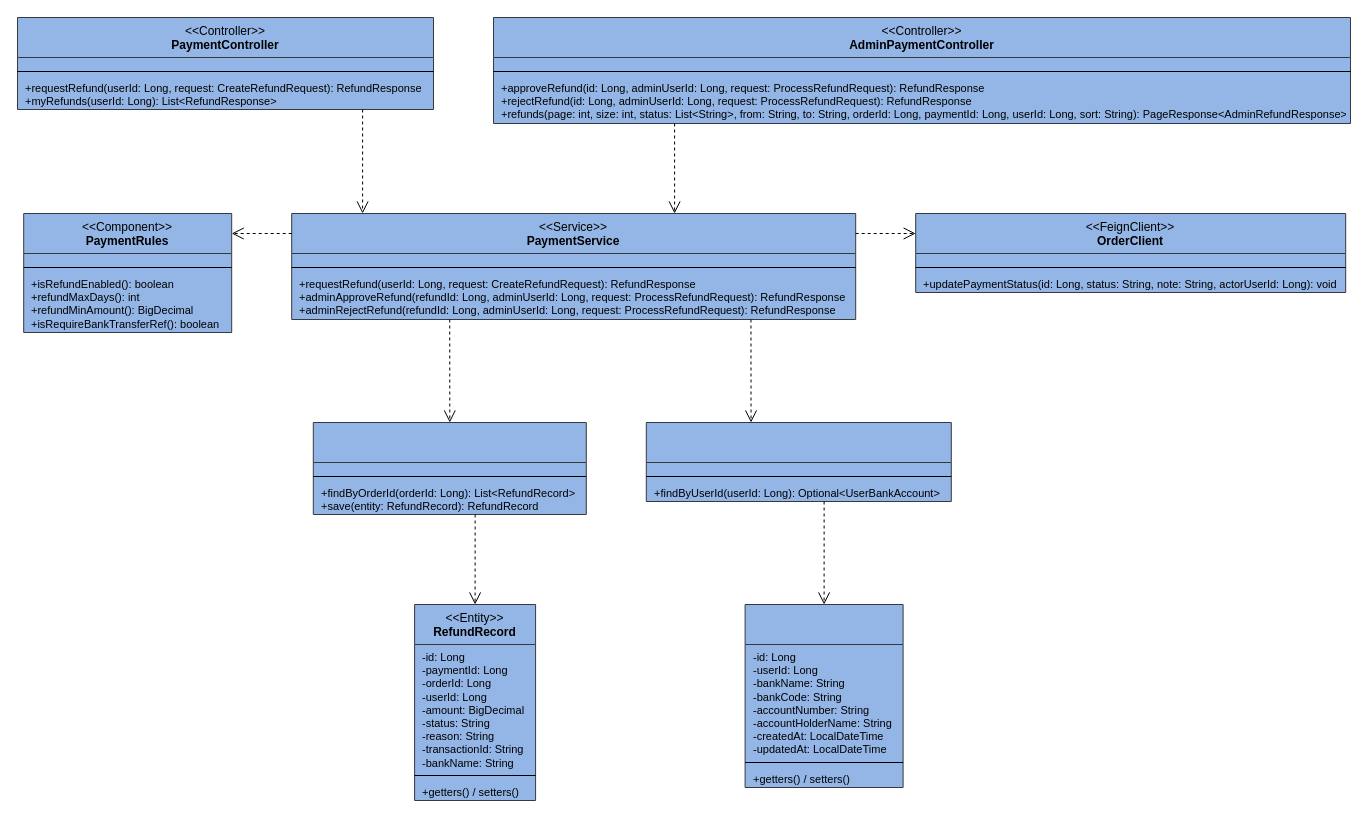
Image size: 1368x821. Some labels were removed from this diagram. Here are the shapes that lost their labels. From the top down, the box of each, then its label:
(312, 422, 586, 514): <<Repository>> RefundRepository
(645, 422, 951, 502): <<Repository>> UserBankAccountRepository
(744, 604, 903, 788): <<Entity>> UserBankAccount
